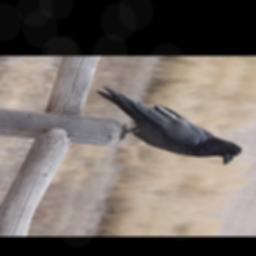Crow: (69, 85, 256, 167)
